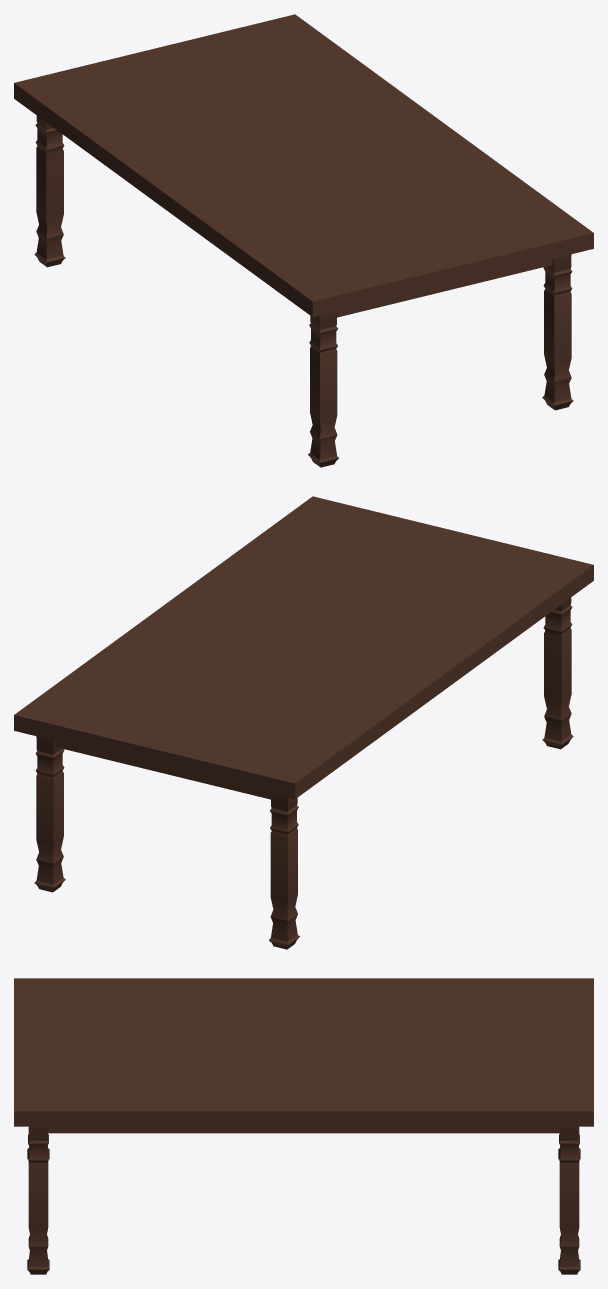
The model's file is Table - Copy.fbx.
3 renders of one model, top to bottom at view 1: azimuth 30°, elevation 25°; view 2: azimuth 150°, elevation 25°; view 3: azimuth 270°, elevation 25°, orthographic. The views are drawn at different scales.
Visible parts, largest first — view 1: Table; view 2: Table; view 3: Table.
Part boxes in pixels (left/top/right/bottom): Table: left=14, top=14, right=593, bottom=467; Table: left=14, top=496, right=593, bottom=949; Table: left=14, top=978, right=593, bottom=1274.
Size of the model in its own units: 267 by 160 by 491.
